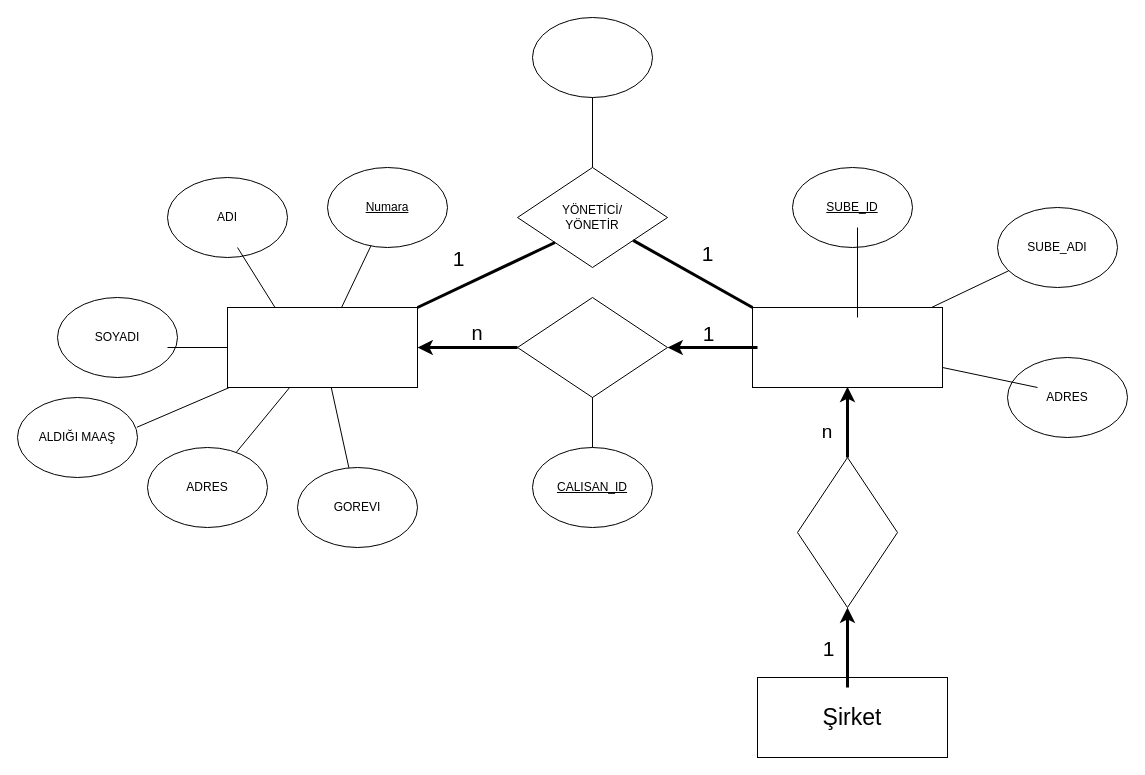
Some shapes in this 1145 by 775 pixel diagram are drawn without their labels. Here are the shapes that lost their labels. From the top down, the box of each, then its label:
(532, 16, 652, 98): YONETİCİ_ID
(226, 306, 418, 388): Çalışan
(516, 296, 668, 398): GÖREV_YAPAR
(752, 306, 942, 388): Şube
(796, 456, 898, 608): SAHİPTİR
